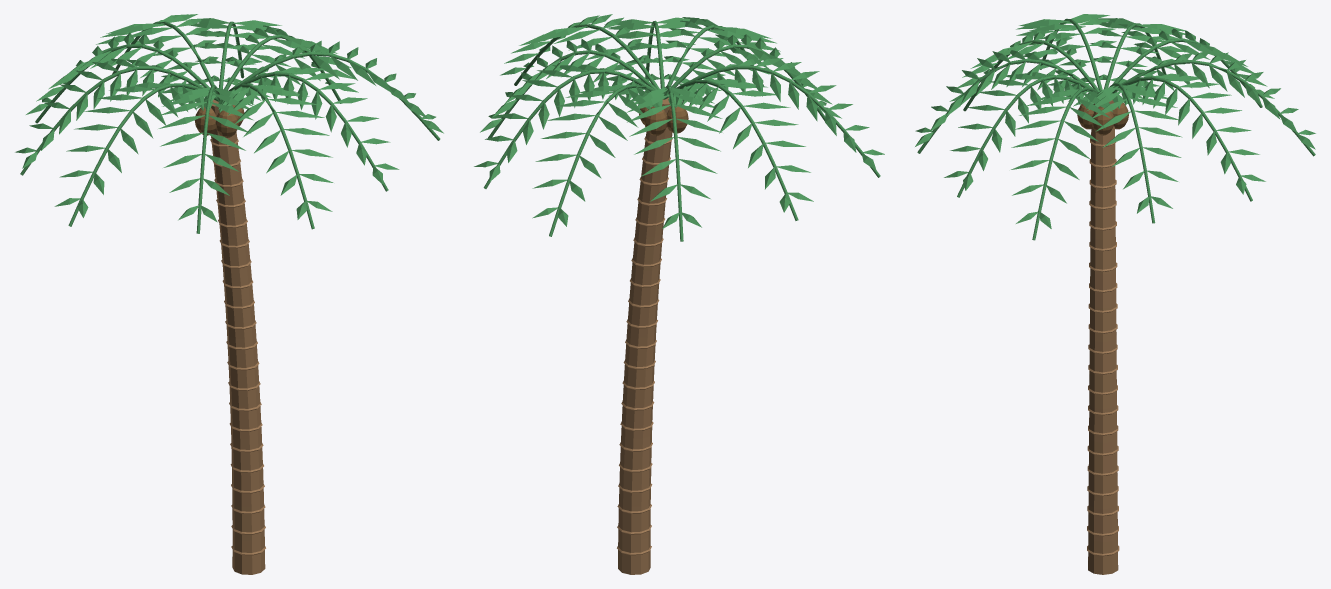
File: palm-2.glb
3 views of the same model, side by side, from view 1: azimuth 30°, elevation 25°; view 2: azimuth 150°, elevation 25°; view 3: azimuth 270°, elevation 25° (orthographic). The views are drawn at different scales.
Visible parts, largest first — view 1: palm-2; view 2: palm-2; view 3: palm-2.
Boxes of the visible parts, <box> form: palm-2: <box>15,14,443,574</box>; palm-2: <box>474,14,884,574</box>; palm-2: <box>915,14,1315,574</box>.
Size of the model in its own units: 5.85 by 7.6 by 5.59.
